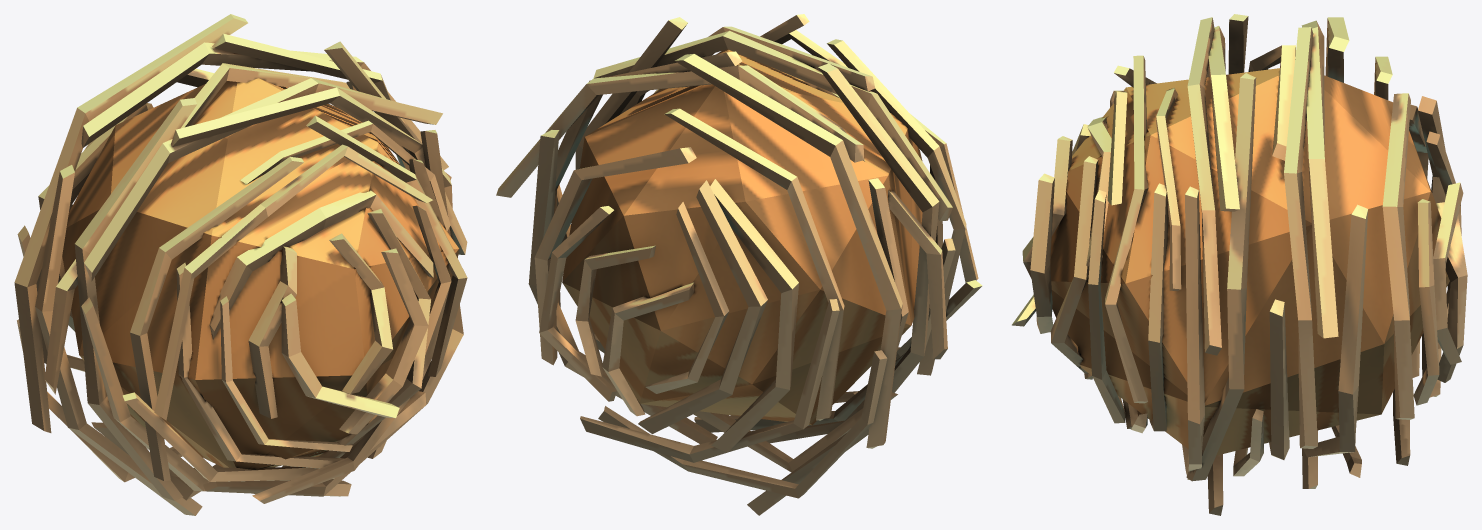
File: 484d4504-7c0c-41ce-aaf5-50f2d978fa4d.glb
3 views of the same model, side by side, from view 1: azimuth 30°, elevation 25°; view 2: azimuth 150°, elevation 25°; view 3: azimuth 270°, elevation 25° (orthographic). The views are drawn at different scales.
Visible parts, largest first — view 1: Tumbleweed; view 2: Tumbleweed; view 3: Tumbleweed.
Boxes of the visible parts, bbox=[...] form: Tumbleweed: bbox=[14, 14, 467, 515]; Tumbleweed: bbox=[496, 14, 982, 515]; Tumbleweed: bbox=[1012, 14, 1467, 515].
Bounding box in the file's own units: 1.84 × 1.92 × 1.65.
1 material, 1 textured.
